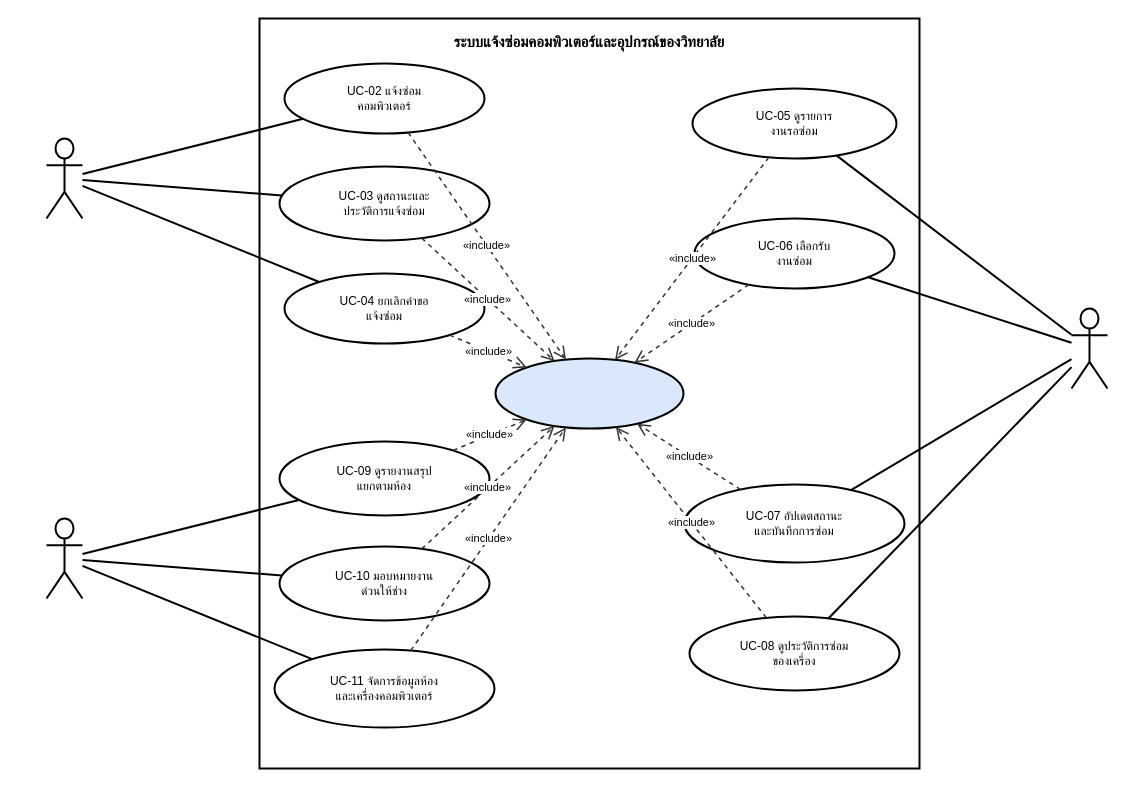
The diagram is 1131 pixels wide and 786 high, and some of its shapes have lost their labels. Each missing label, with the centre of its shape:
UC-01 เข้าสู่ระบบ (Login): pixel 589 393
ช่างเทคนิค: pixel 1089 348
ผู้แจ้ง (นักศึกษา/ครูผู้สอน): pixel 64 178
หัวหน้างาน อาคารสถานที่ฯ: pixel 64 558
